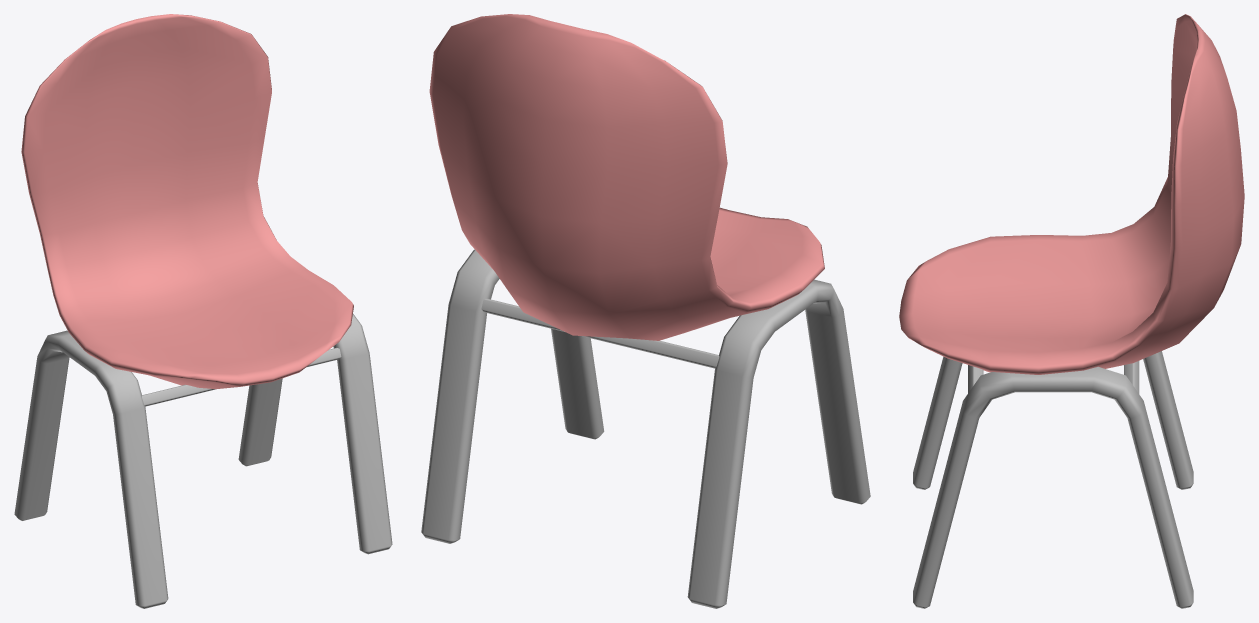
File: chair_027.fbx
3 views of the same model, side by side, from view 1: azimuth 30°, elevation 25°; view 2: azimuth 150°, elevation 25°; view 3: azimuth 270°, elevation 25° (orthographic). The views are drawn at different scales.
Visible parts, largest first — view 1: chair_027; view 2: chair_027; view 3: chair_027.
Part boxes in pixels (<box>): chair_027: <box>14,14,392,608</box>; chair_027: <box>421,14,870,608</box>; chair_027: <box>899,14,1244,608</box>.
Bounding box in the file's own units: 69.71 × 75.88 × 123.
